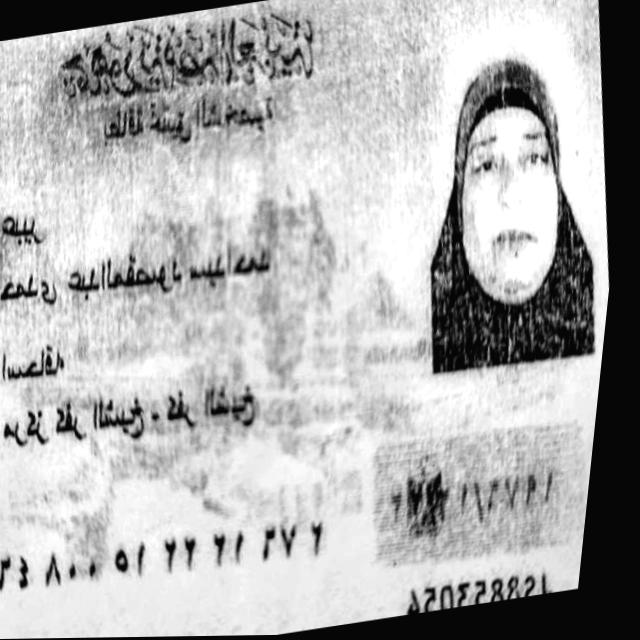front: (0, 0, 609, 639)
